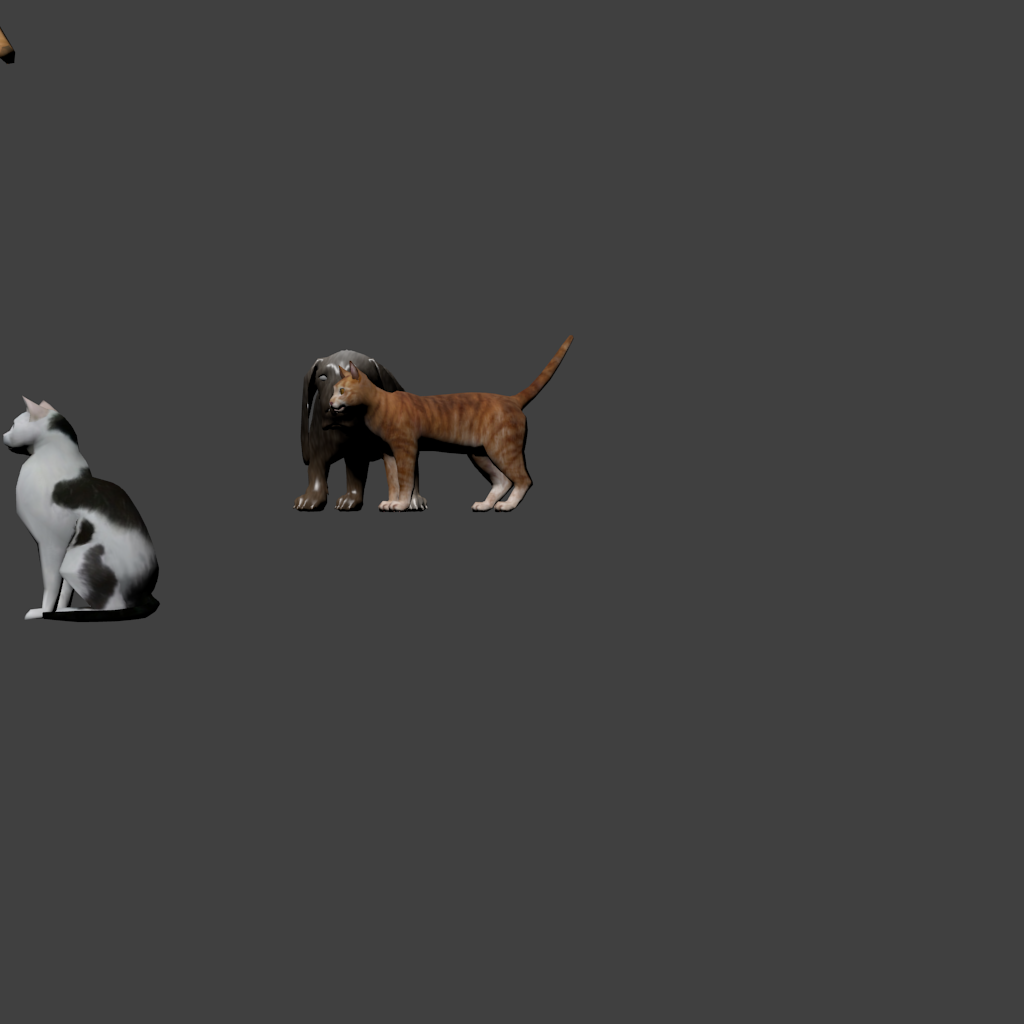Dog: (0, 0, 15, 478)
